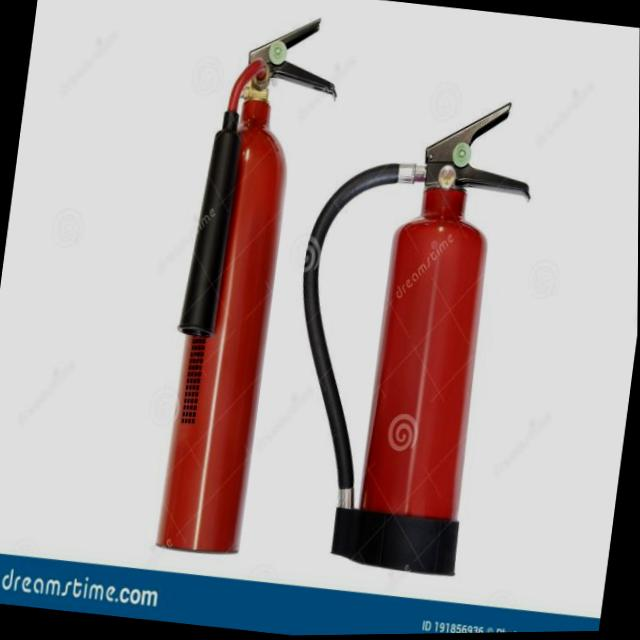FireExtinguisher: (264, 77, 547, 590), (142, 5, 349, 571)
